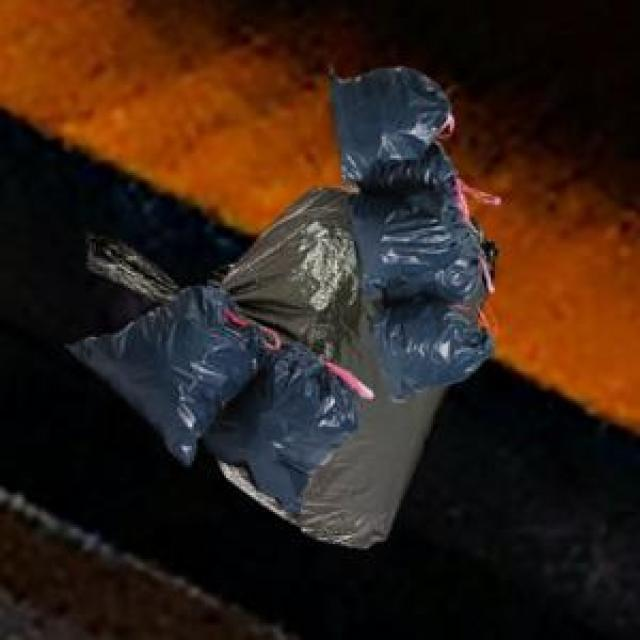waste: (68, 68, 492, 548)
